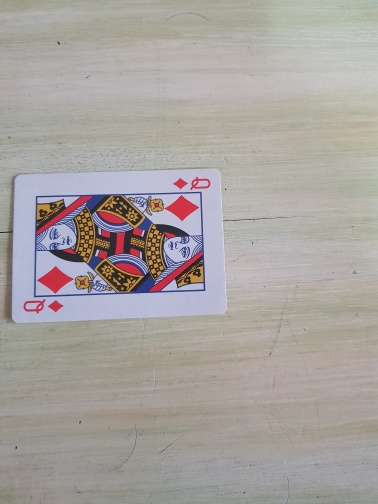queen: (8, 167, 229, 326)
